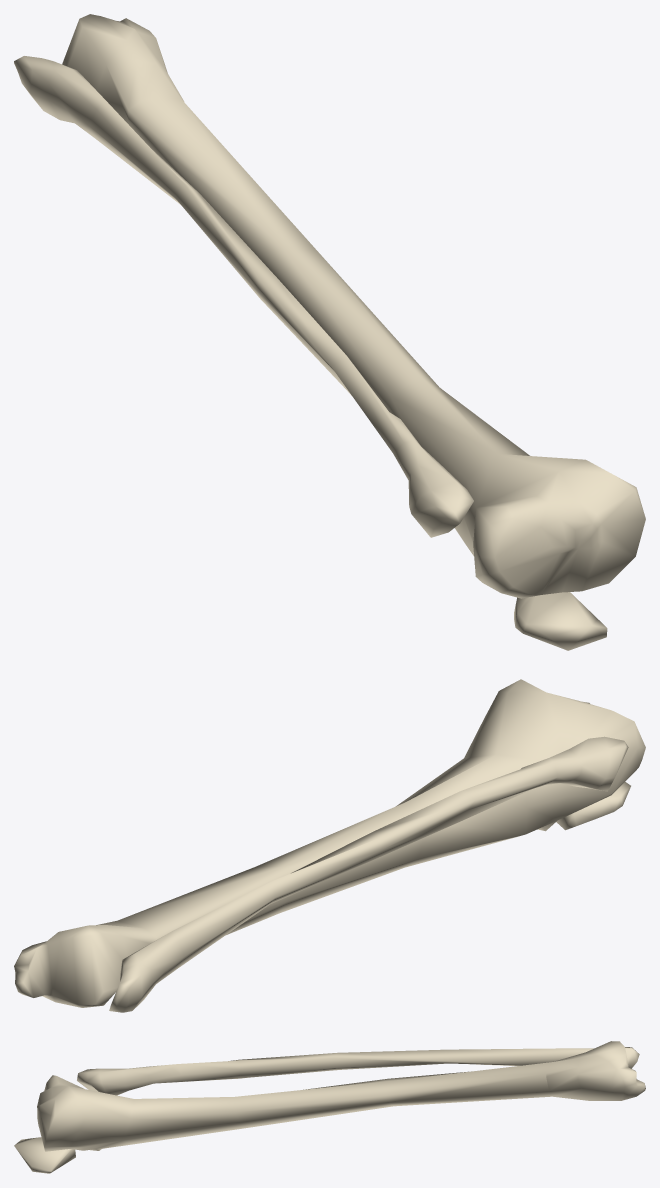
The model's file is 右小腿.obj.
The picture shows the model from 3 angles, top to bottom: view 1: azimuth 30°, elevation 25°; view 2: azimuth 150°, elevation 25°; view 3: azimuth 270°, elevation 25°; orthographic projection. The views are drawn at different scales.
Size of the model in its own units: 0.0375 by 0.0423 by 0.1824.
